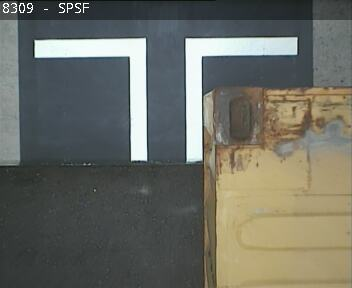groundmarker_1: (33, 39, 291, 161)
